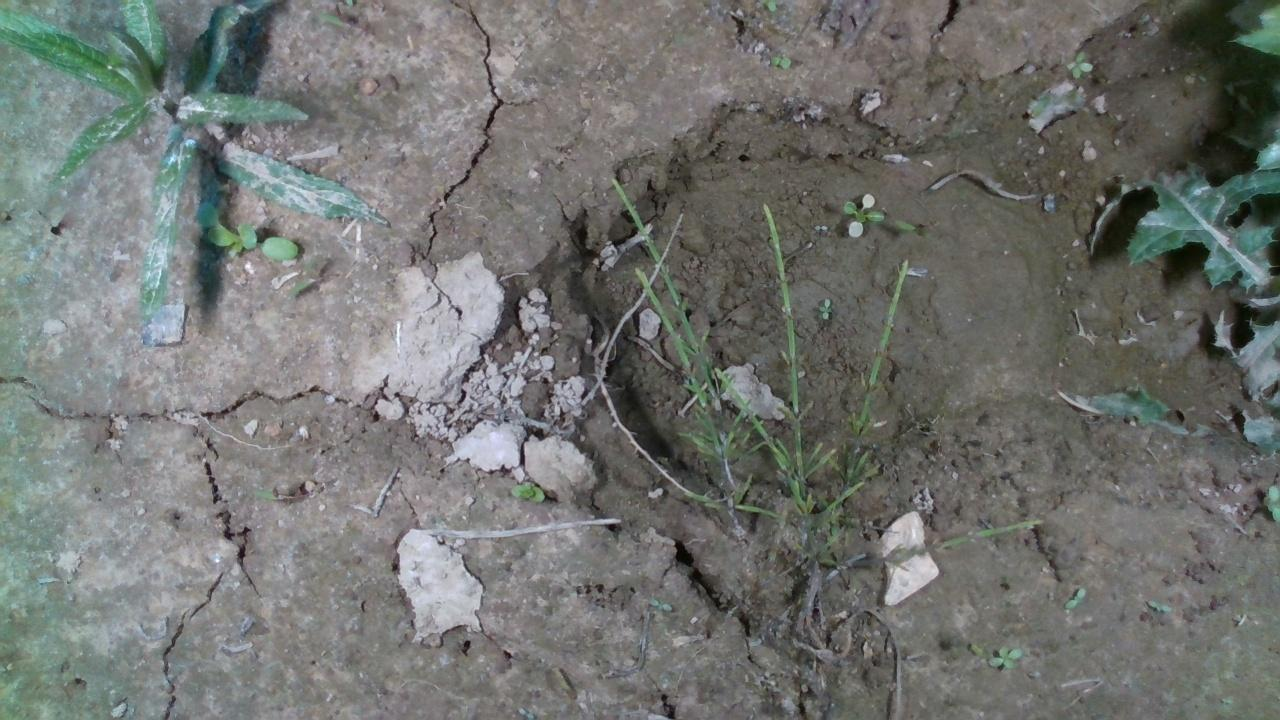weed: (839, 190, 888, 233), (983, 645, 1024, 668), (505, 479, 546, 502), (1061, 586, 1087, 609), (814, 297, 833, 318), (1145, 599, 1174, 611), (966, 641, 983, 655)
